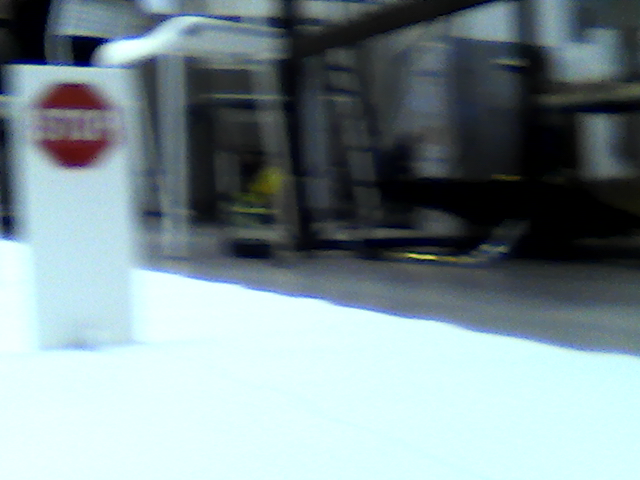Stop: (31, 80, 117, 160)
